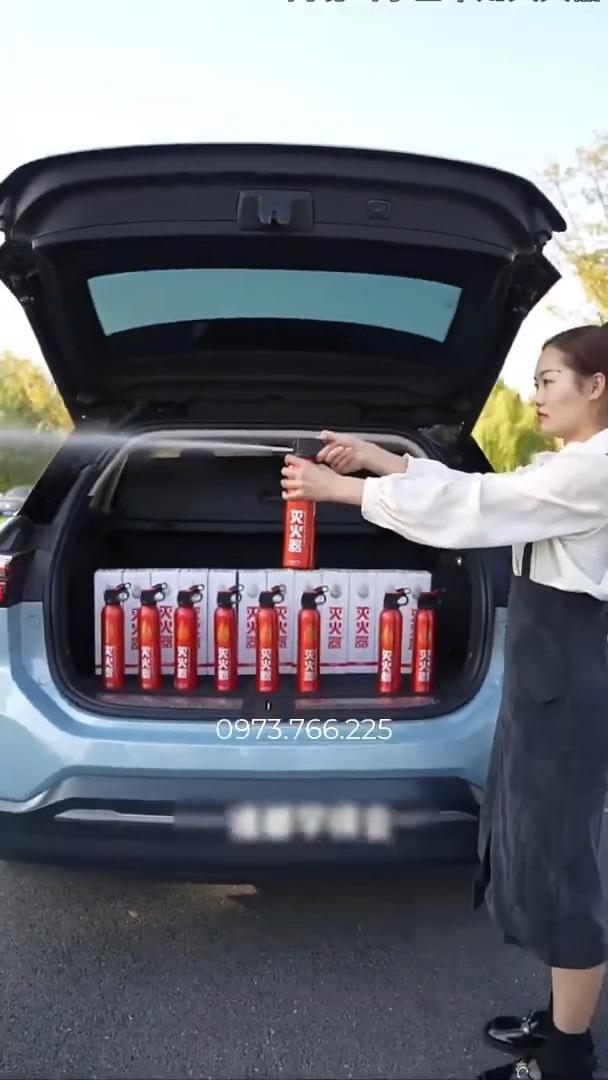FireExtinguisher: (270, 428, 339, 572), (368, 583, 412, 697), (251, 580, 292, 699), (96, 578, 136, 697), (296, 581, 337, 695), (210, 583, 251, 695), (136, 578, 172, 696), (173, 580, 208, 699), (409, 586, 441, 695)
